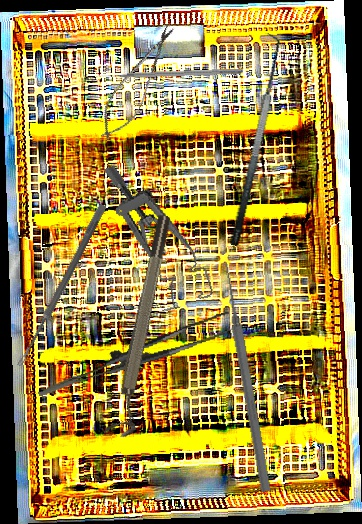Fixation Ring: (104, 213, 184, 440)
Hook Surgical: (95, 67, 244, 80)
Micro Scissor: (90, 17, 184, 148)
Pusher: (219, 262, 274, 493)
Spatula Surgical: (212, 32, 292, 247)
Speculum: (102, 148, 215, 318)
Surgical Spoon: (16, 202, 107, 369)
Tissue Forceps: (30, 311, 238, 397)
